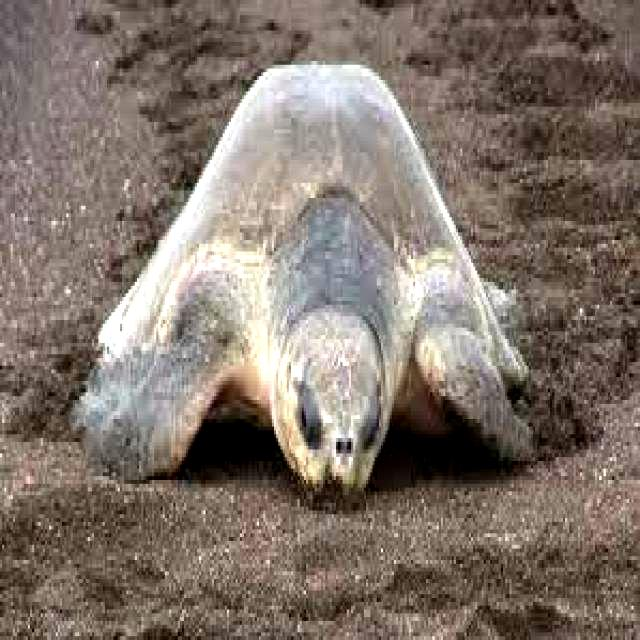Sea turtle: (64, 47, 546, 508)
